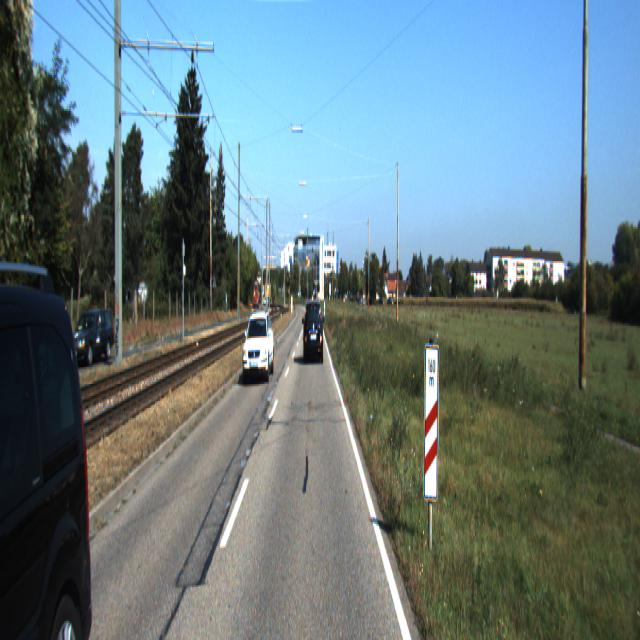Car: (0, 287, 123, 638), (15, 308, 70, 385), (64, 306, 114, 372), (243, 311, 275, 384), (304, 298, 324, 364)
